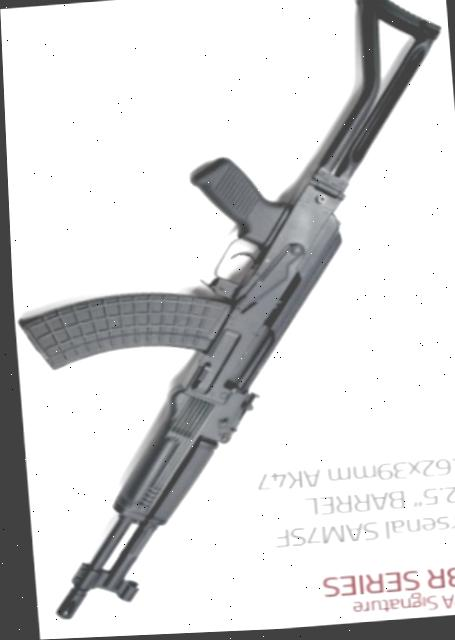rifle: (0, 0, 455, 631)
